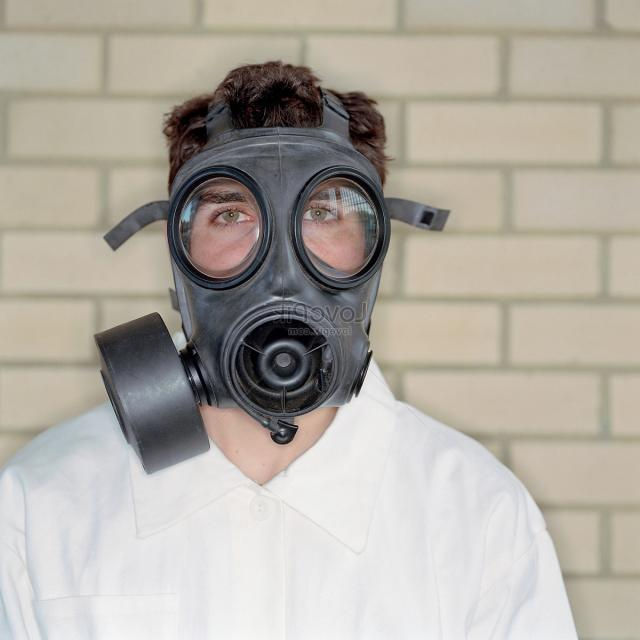adult: (0, 70, 562, 640)
